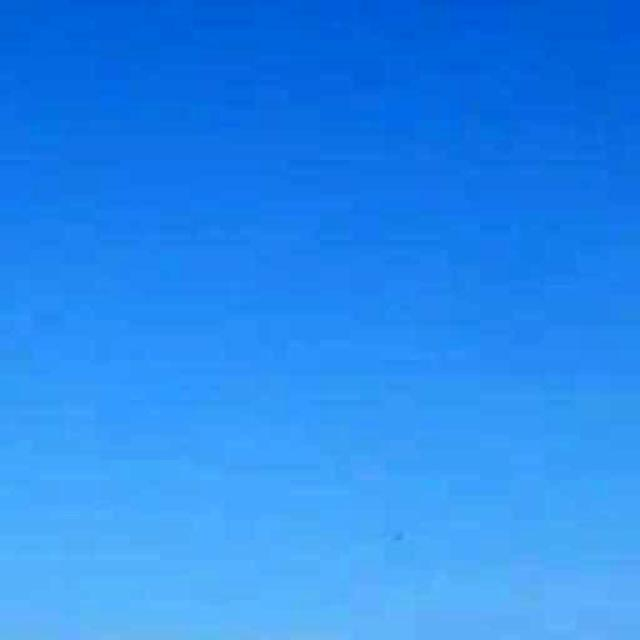drone: (368, 495, 438, 575)
